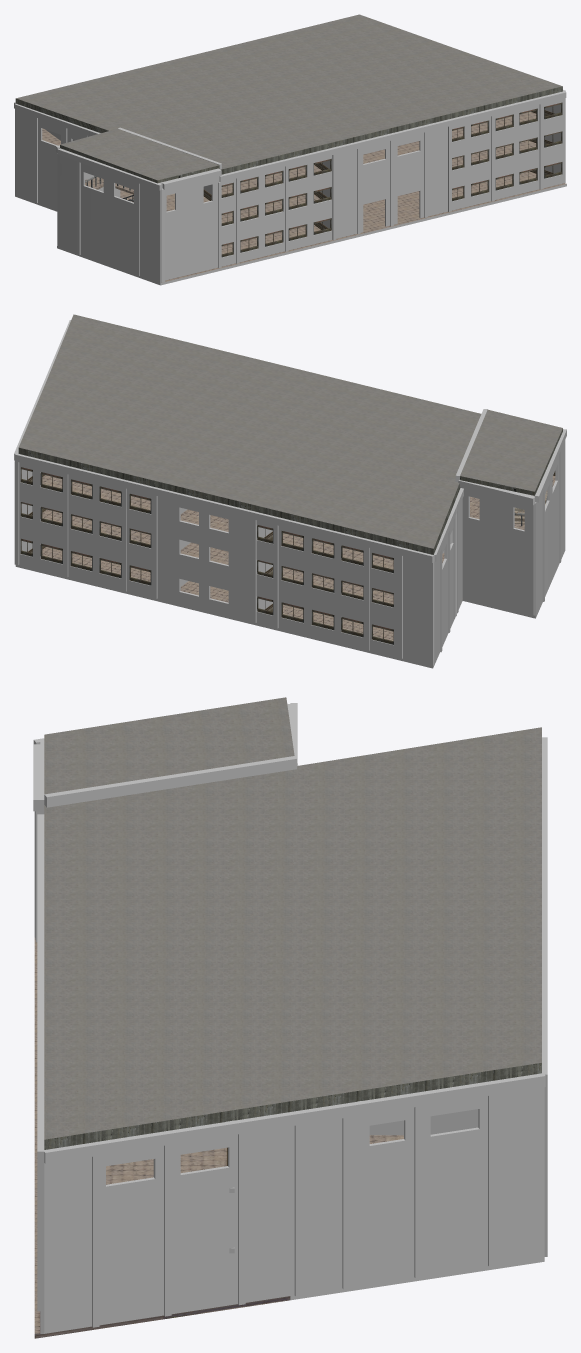
Rendered from SchoolBuilding.fbx.
3 renders of one model, top to bottom at view 1: azimuth 30°, elevation 25°; view 2: azimuth 150°, elevation 25°; view 3: azimuth 270°, elevation 25°, orthographic. The views are drawn at different scales.
Parts seen in each view (by area): view 1: SchoolWalls, SchoolFloor; view 2: SchoolWalls, SchoolFloor; view 3: SchoolWalls, SchoolFloor.
Boxes of the visible parts, bbox=[...] form: SchoolWalls: bbox=[14, 14, 566, 282]; SchoolFloor: bbox=[15, 112, 566, 285]; SchoolWalls: bbox=[14, 314, 566, 665]; SchoolFloor: bbox=[15, 475, 565, 668]; SchoolWalls: bbox=[33, 697, 547, 1333]; SchoolFloor: bbox=[34, 937, 544, 1338].
Size of the model in its own units: 762 by 170 by 379.
